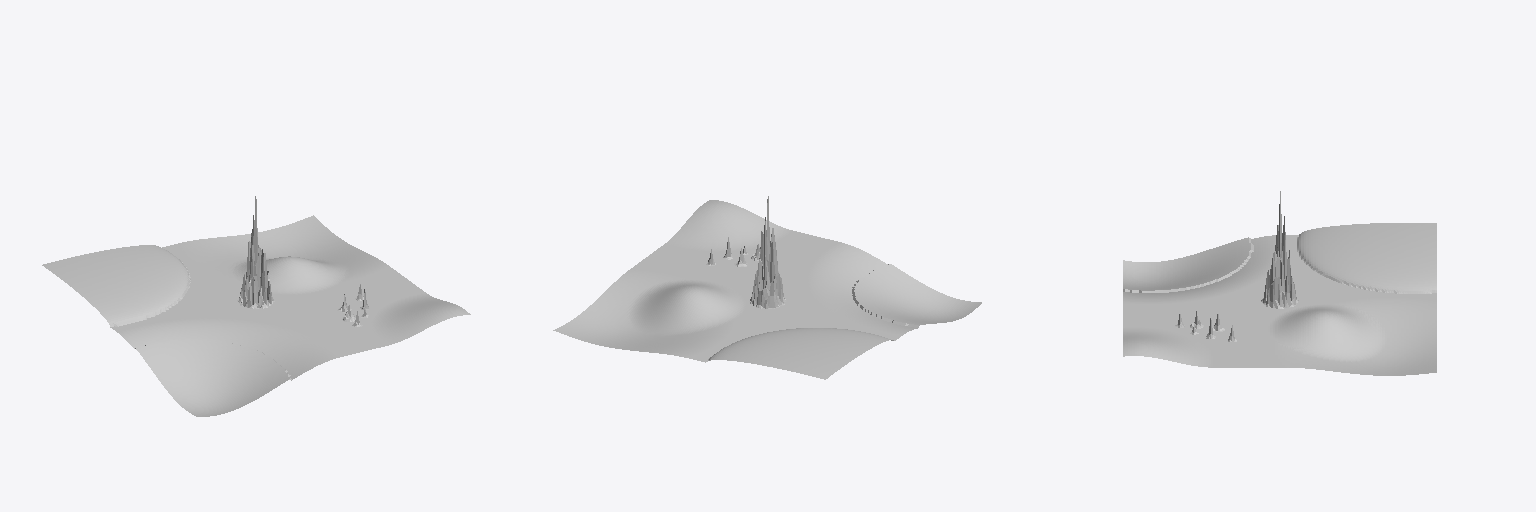
The model's file is Towers.obj.
The picture shows the model from 3 angles: view 1: azimuth 30°, elevation 25°; view 2: azimuth 150°, elevation 25°; view 3: azimuth 270°, elevation 25°; orthographic projection.
Visible parts, largest first — view 1: Plane; view 2: Plane; view 3: Plane.
Part boxes in pixels (left/top/right/bottom): Plane: left=42, top=196, right=470, bottom=416; Plane: left=553, top=196, right=981, bottom=379; Plane: left=1123, top=191, right=1436, bottom=375.
Bounding box in the file's own units: 1000 × 532 × 1000.